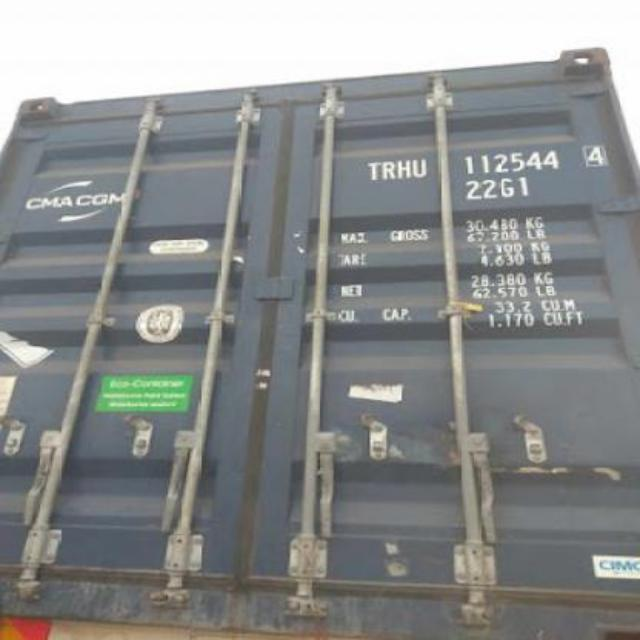1: (481, 151, 494, 177), (466, 154, 476, 174)
2: (494, 151, 510, 175)
4: (584, 146, 608, 164), (526, 150, 544, 170), (546, 150, 560, 170)
5: (510, 150, 526, 172)
H: (398, 158, 410, 178)
R: (382, 161, 396, 177)
T: (364, 158, 380, 182)
U: (412, 156, 428, 178)
